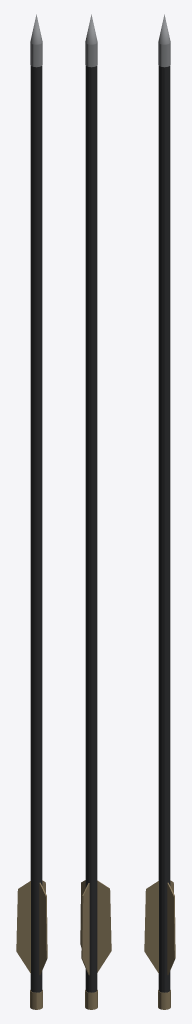
File: mod_thorn_arrow.glb
The picture shows the model from 3 angles, left to right: view 1: azimuth 90°, elevation 25°; view 2: azimuth 150°, elevation 25°; view 3: azimuth 330°, elevation 25°; orthographic projection.
Visible parts, largest first — view 1: CarbonArrow, CarbonArrowHead; view 2: CarbonArrow, CarbonArrowHead; view 3: CarbonArrow, CarbonArrowHead.
Part boxes in pixels (box(x1,y1,x2,y2)): CarbonArrow: box(16, 65, 47, 1009); CarbonArrowHead: box(30, 14, 42, 67); CarbonArrow: box(80, 65, 111, 1009); CarbonArrowHead: box(85, 14, 97, 67); CarbonArrow: box(144, 65, 175, 1009); CarbonArrowHead: box(158, 14, 170, 67).
Bounding box in the file's own units: 0.0229 × 0.706 × 0.0202.
